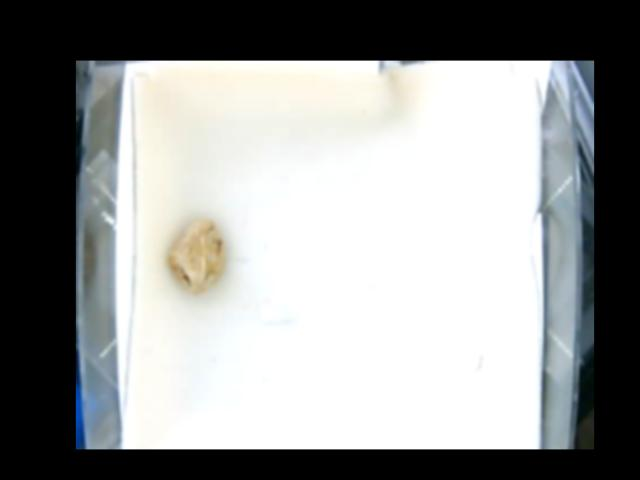Pebble: (164, 216, 225, 294)
